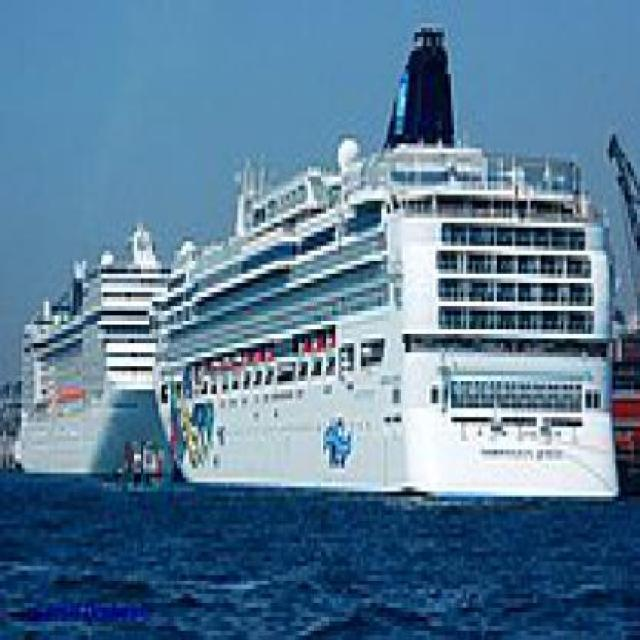cruise: (153, 20, 632, 517), (10, 214, 184, 488)
